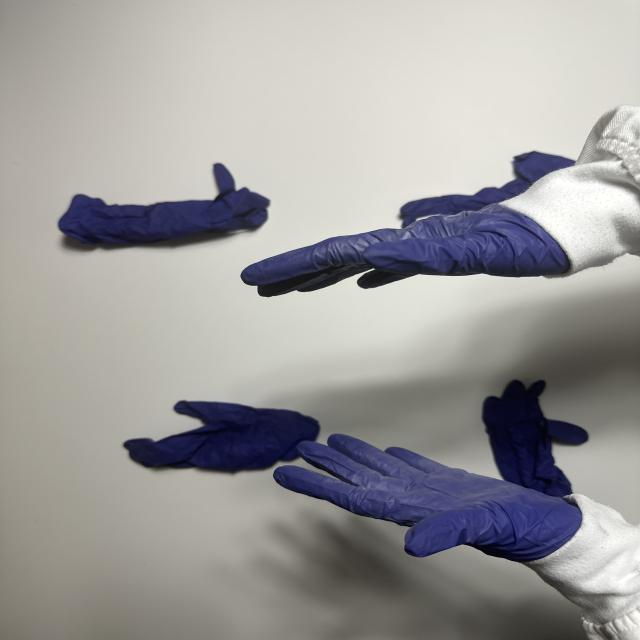gloves_contaminated: (274, 434, 581, 561), (242, 205, 568, 296)
